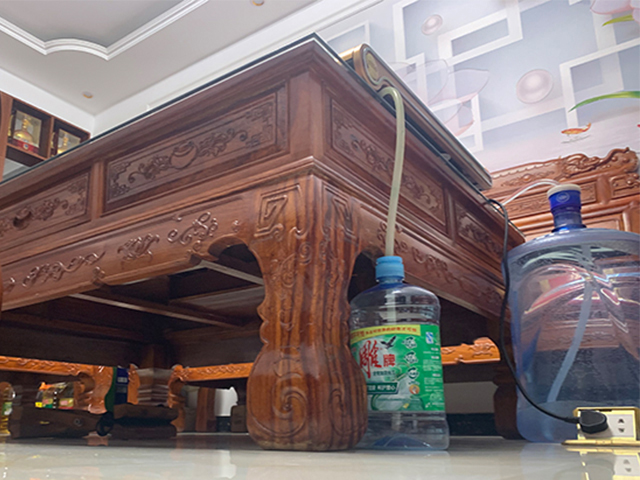table: (1, 30, 527, 454)
wire: (490, 198, 608, 435)
